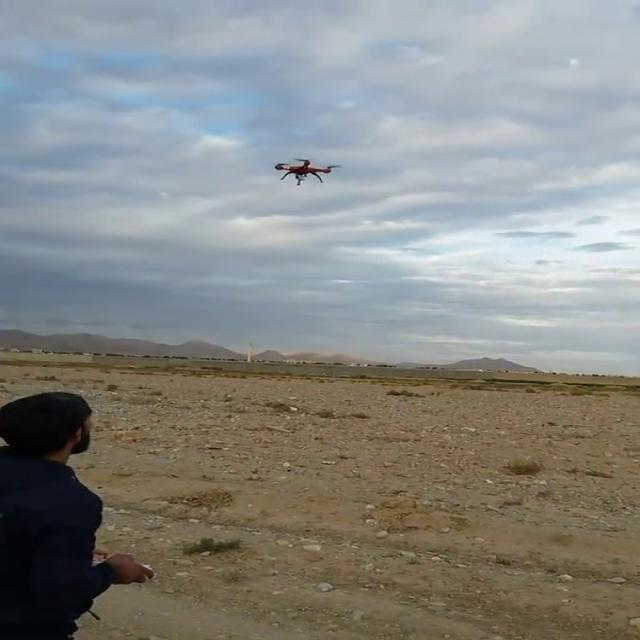drone: (269, 154, 341, 189)
